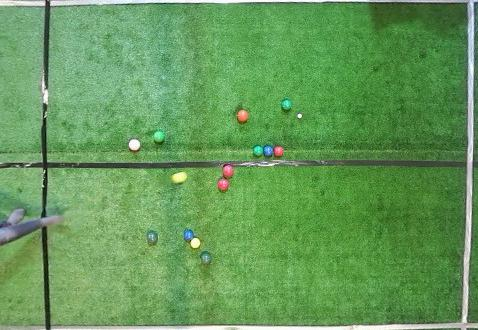blue: (183, 229, 194, 241), (263, 146, 273, 156)
green: (146, 231, 158, 243), (154, 131, 165, 142), (253, 145, 263, 156), (282, 99, 292, 110), (201, 252, 211, 263)
red: (237, 110, 249, 122), (222, 165, 234, 177), (217, 179, 229, 191), (128, 139, 140, 150), (274, 146, 284, 157)
vline: (1, 1, 51, 216), (458, 1, 477, 329), (1, 224, 52, 329)
white: (298, 114, 302, 118)
yellow: (172, 171, 187, 183), (190, 238, 200, 248)
